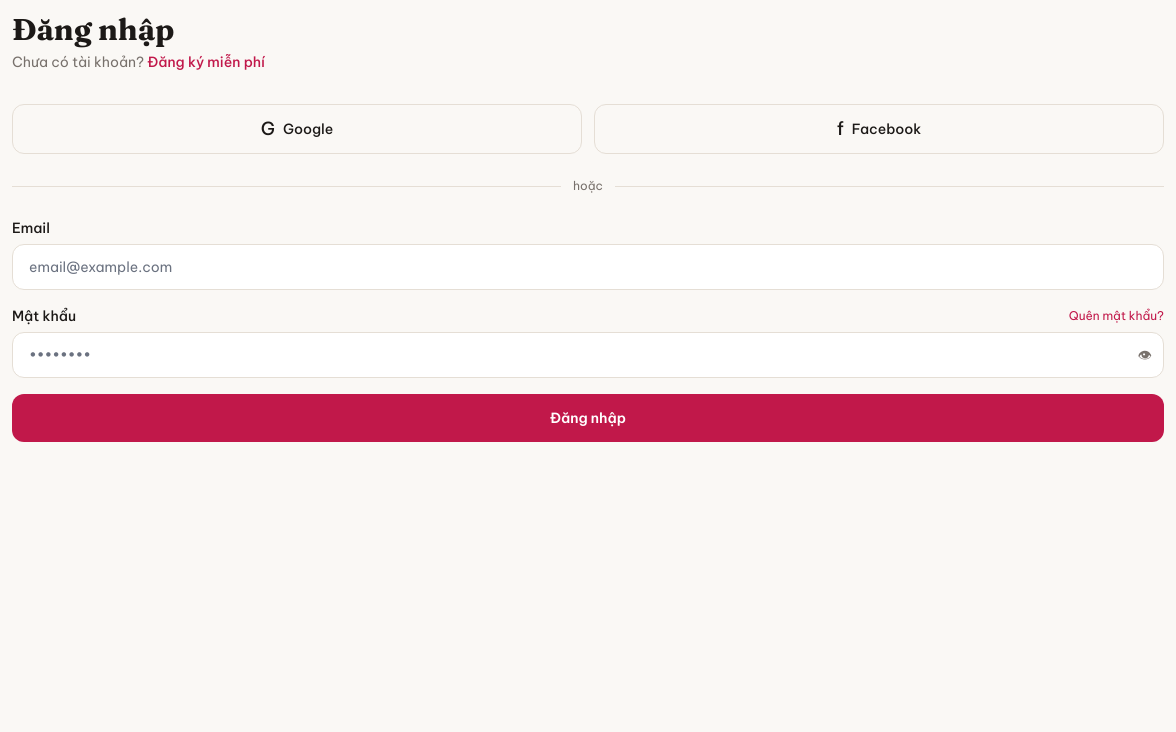
Scenario: LoginPage.vue › displays network error when server is unreachable
Type "test@example.com" into the field labelled "Email" at (588, 267), box [12,244,1164,290]
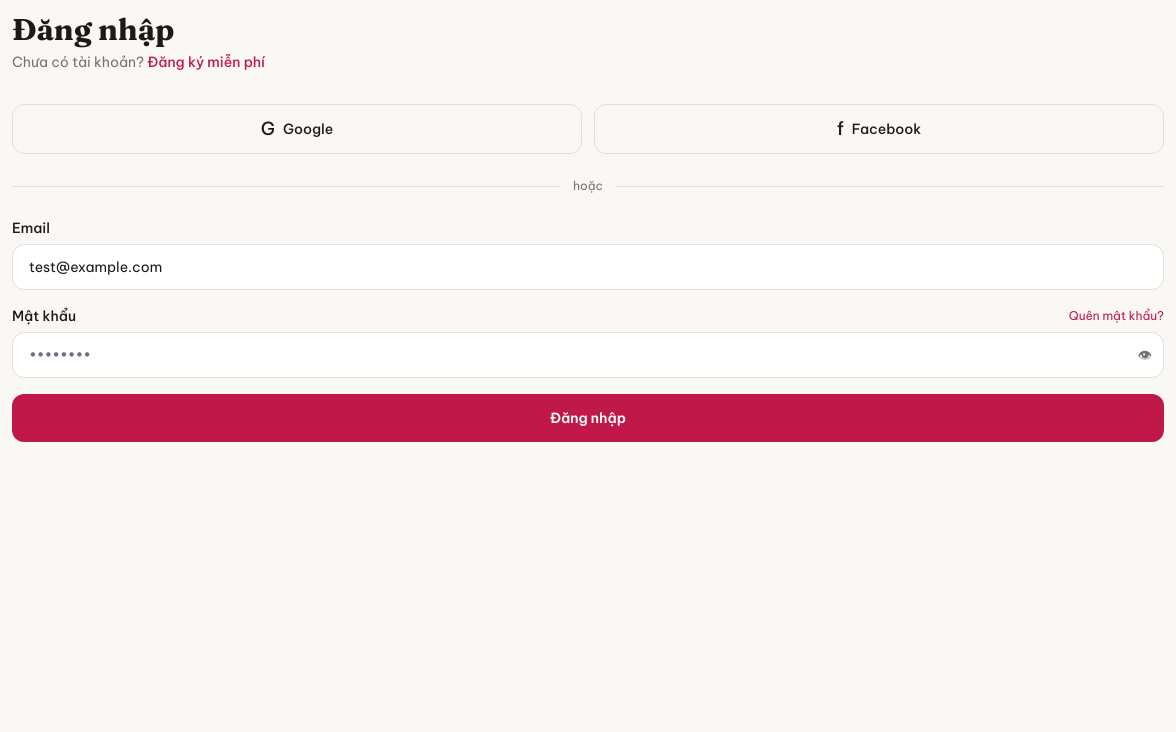
Type "password123" into the password field labelled "Mật khẩu" at (588, 355), box [12,332,1164,378]
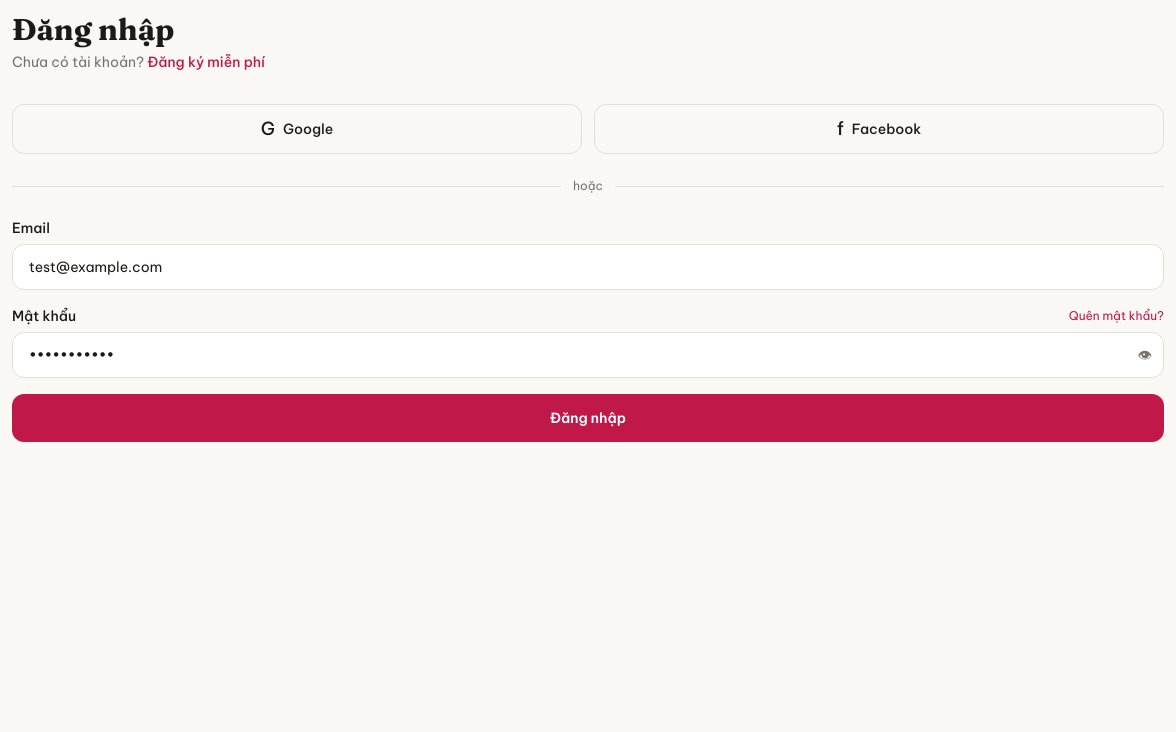
Submit the form, box [12,218,1164,442]
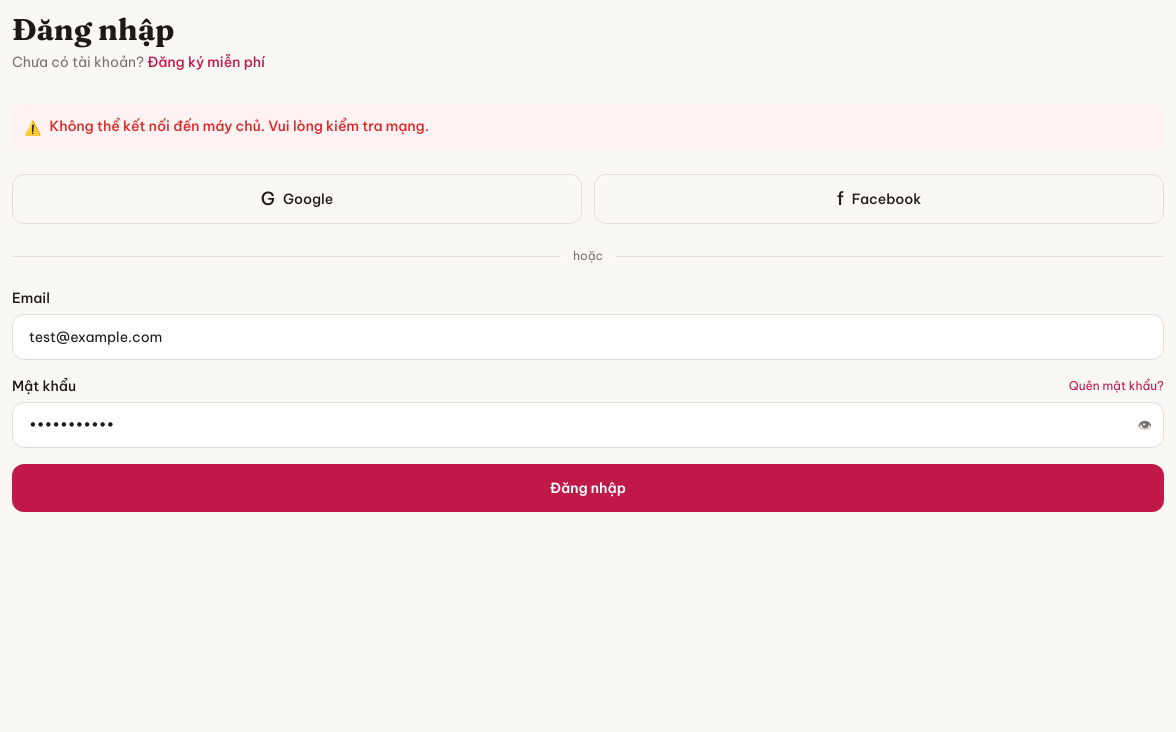
Check: the text "Không thể kết nối đến máy chủ" is shown, box [50,117,429,135]
